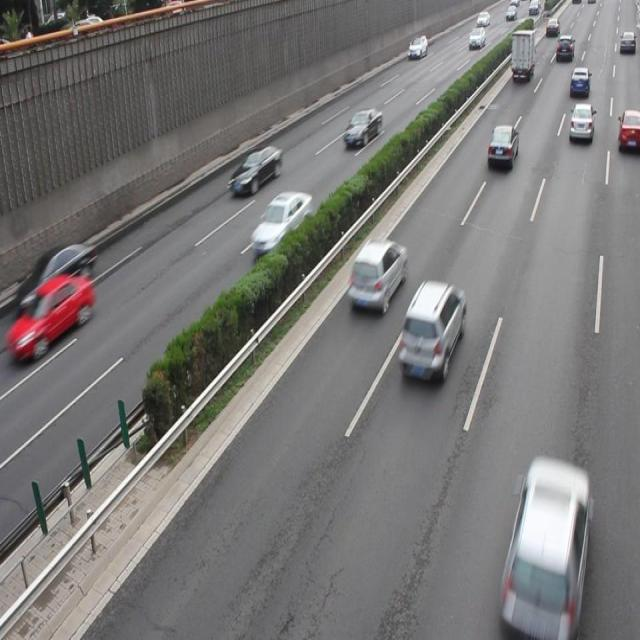car: (501, 455, 589, 640), (395, 277, 466, 382), (16, 272, 93, 355), (23, 239, 96, 310), (347, 236, 405, 314), (250, 188, 311, 254), (230, 144, 281, 194), (342, 108, 381, 147), (486, 123, 517, 170), (617, 108, 640, 154), (567, 102, 593, 142)
